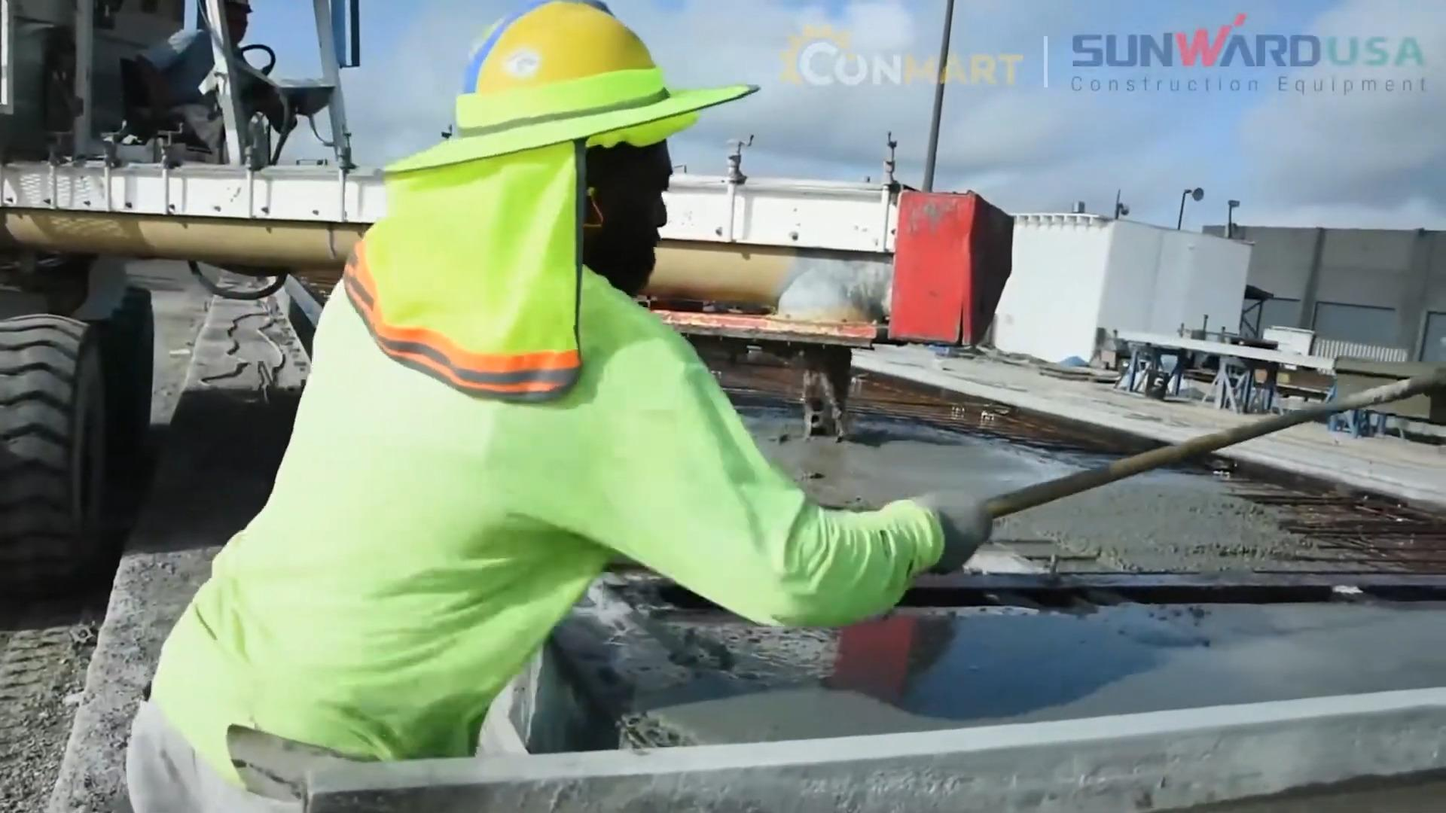Helmet: (419, 25, 748, 167), (898, 495, 997, 574)
Person: (124, 1, 992, 811)
no-vest: (310, 299, 707, 668)
